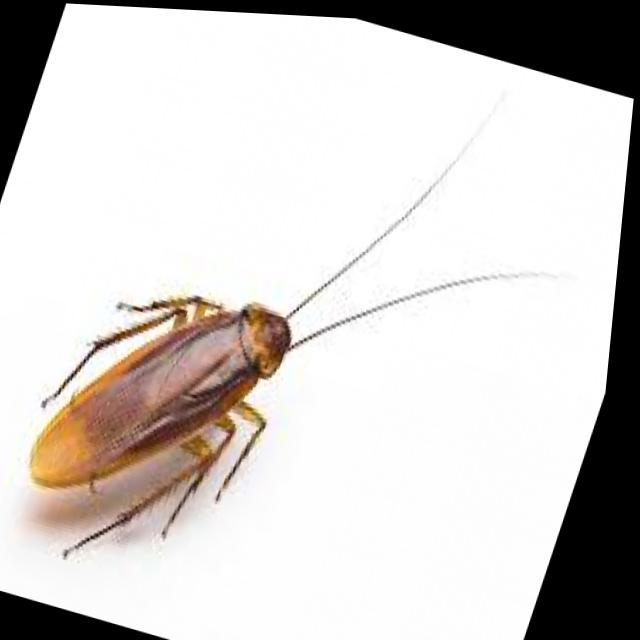Cockroach: (0, 2, 629, 640)
